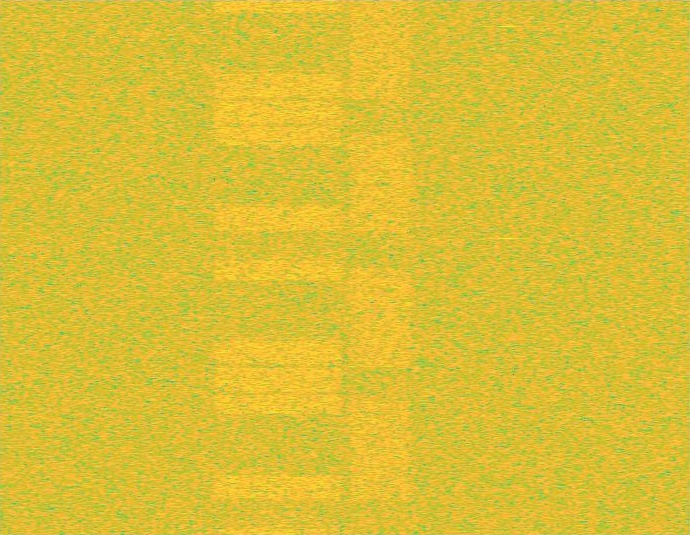5G: (347, 0, 416, 534)
LTE: (209, 0, 347, 534)
Radar: (501, 0, 515, 534)
